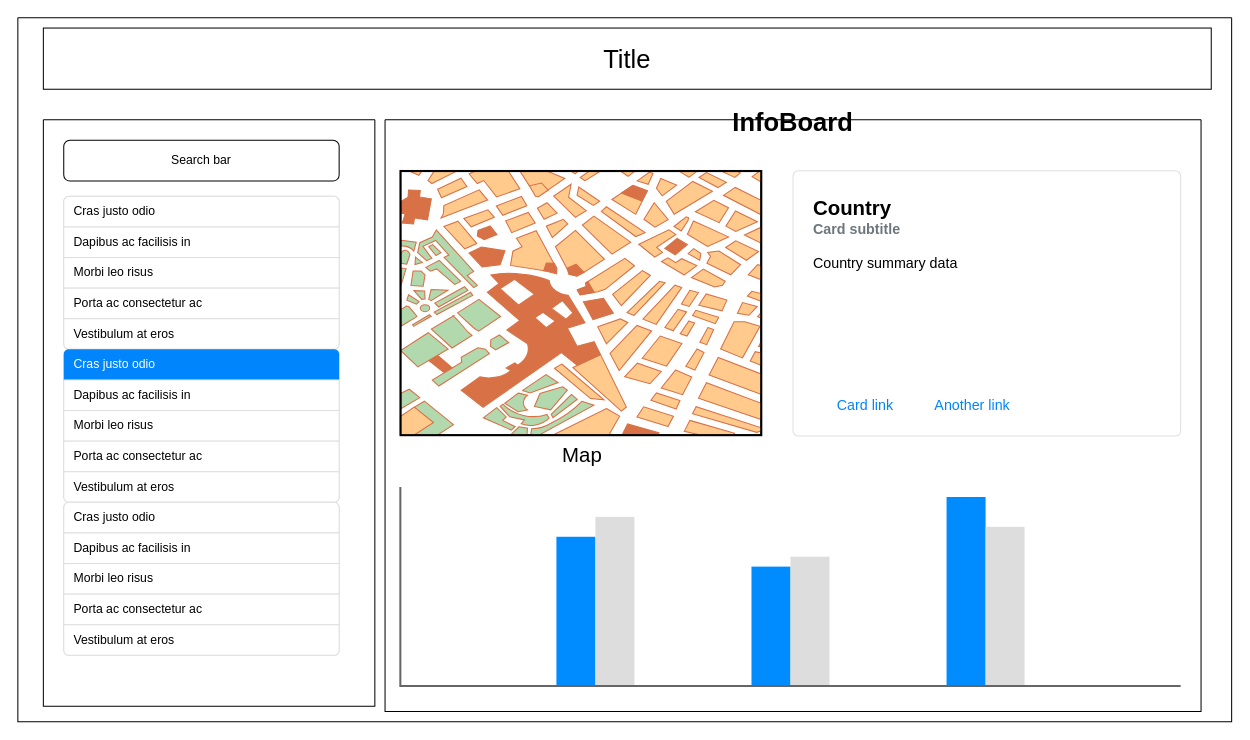
Image size: 1250x740. Some labels were removed from this diagram. Each missing label, with the box of its shape:
Chart: (400, 487, 1180, 685)
Sidebar: (42, 119, 375, 706)
